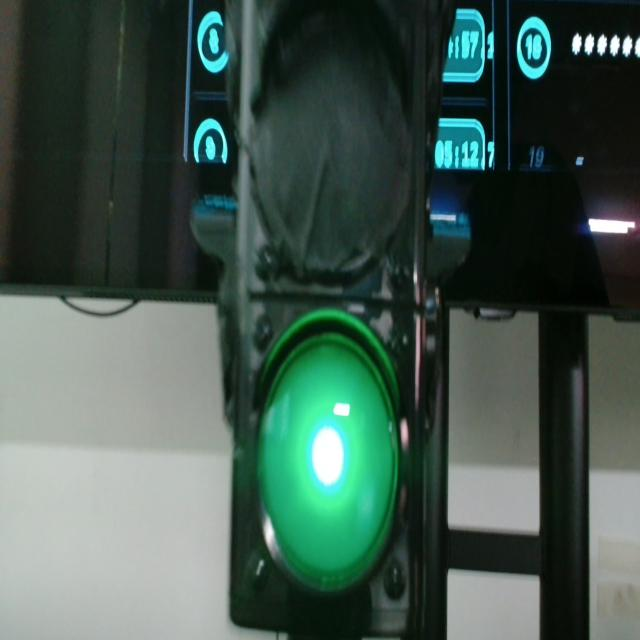green_light: (258, 330, 398, 591), (312, 427, 343, 486)
